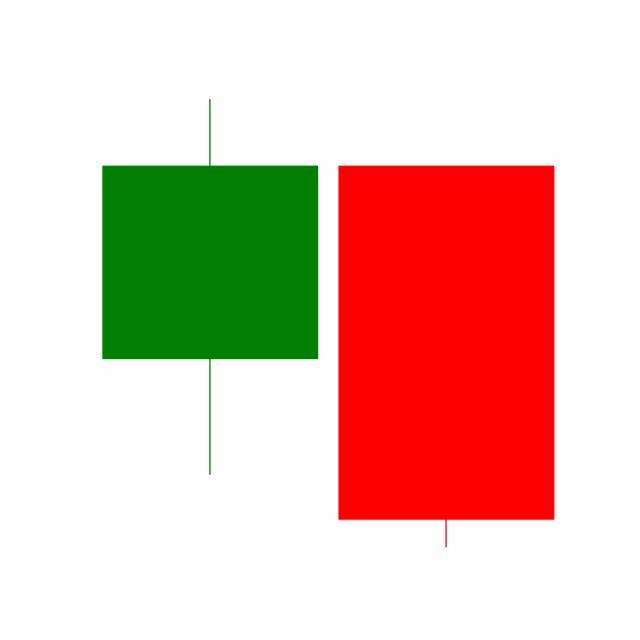Marubozu: (328, 162, 566, 553)
